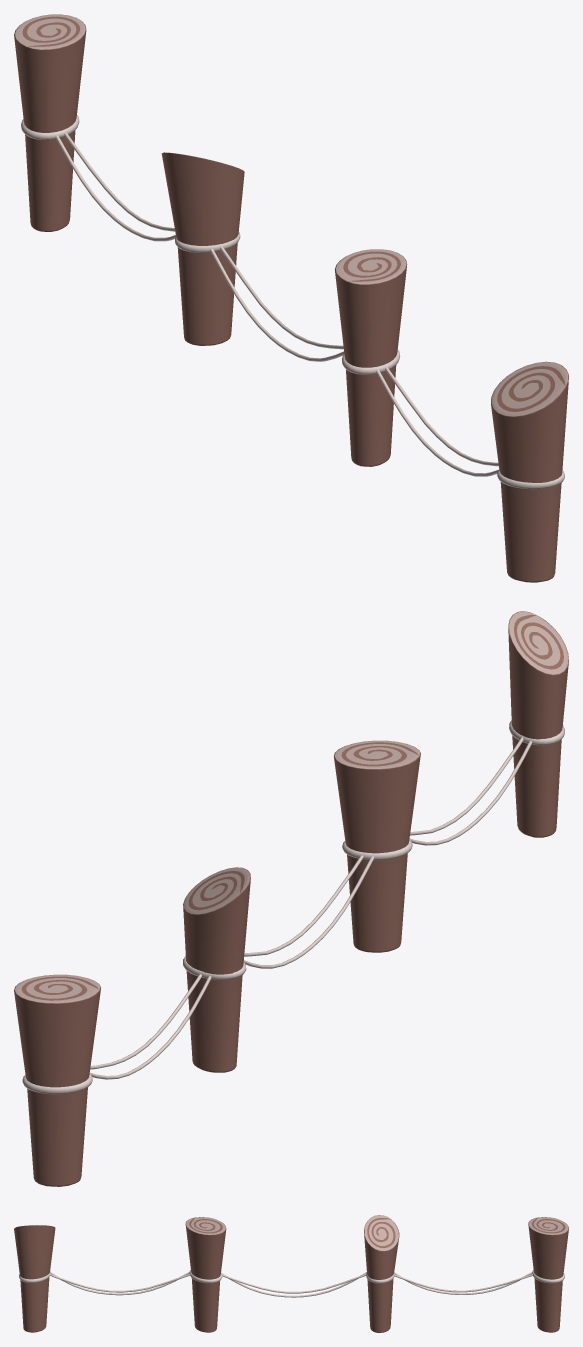
Rendered from Farm_2_Fence_1.glb.
The picture shows the model from 3 angles, top to bottom: view 1: azimuth 30°, elevation 25°; view 2: azimuth 150°, elevation 25°; view 3: azimuth 270°, elevation 25°; orthographic projection. The views are drawn at different scales.
Parts seen in each view (by area): view 1: Farm_2_Fence_1; view 2: Farm_2_Fence_1; view 3: Farm_2_Fence_1.
Boxes of the visible parts, x1,y1,x2,y2 form: Farm_2_Fence_1: (14,14,568,582); Farm_2_Fence_1: (14,611,568,1186); Farm_2_Fence_1: (14,1215,568,1332).
Bounding box in the file's own units: 0.4579 × 1.23 × 5.64.
1 material, 1 textured.
